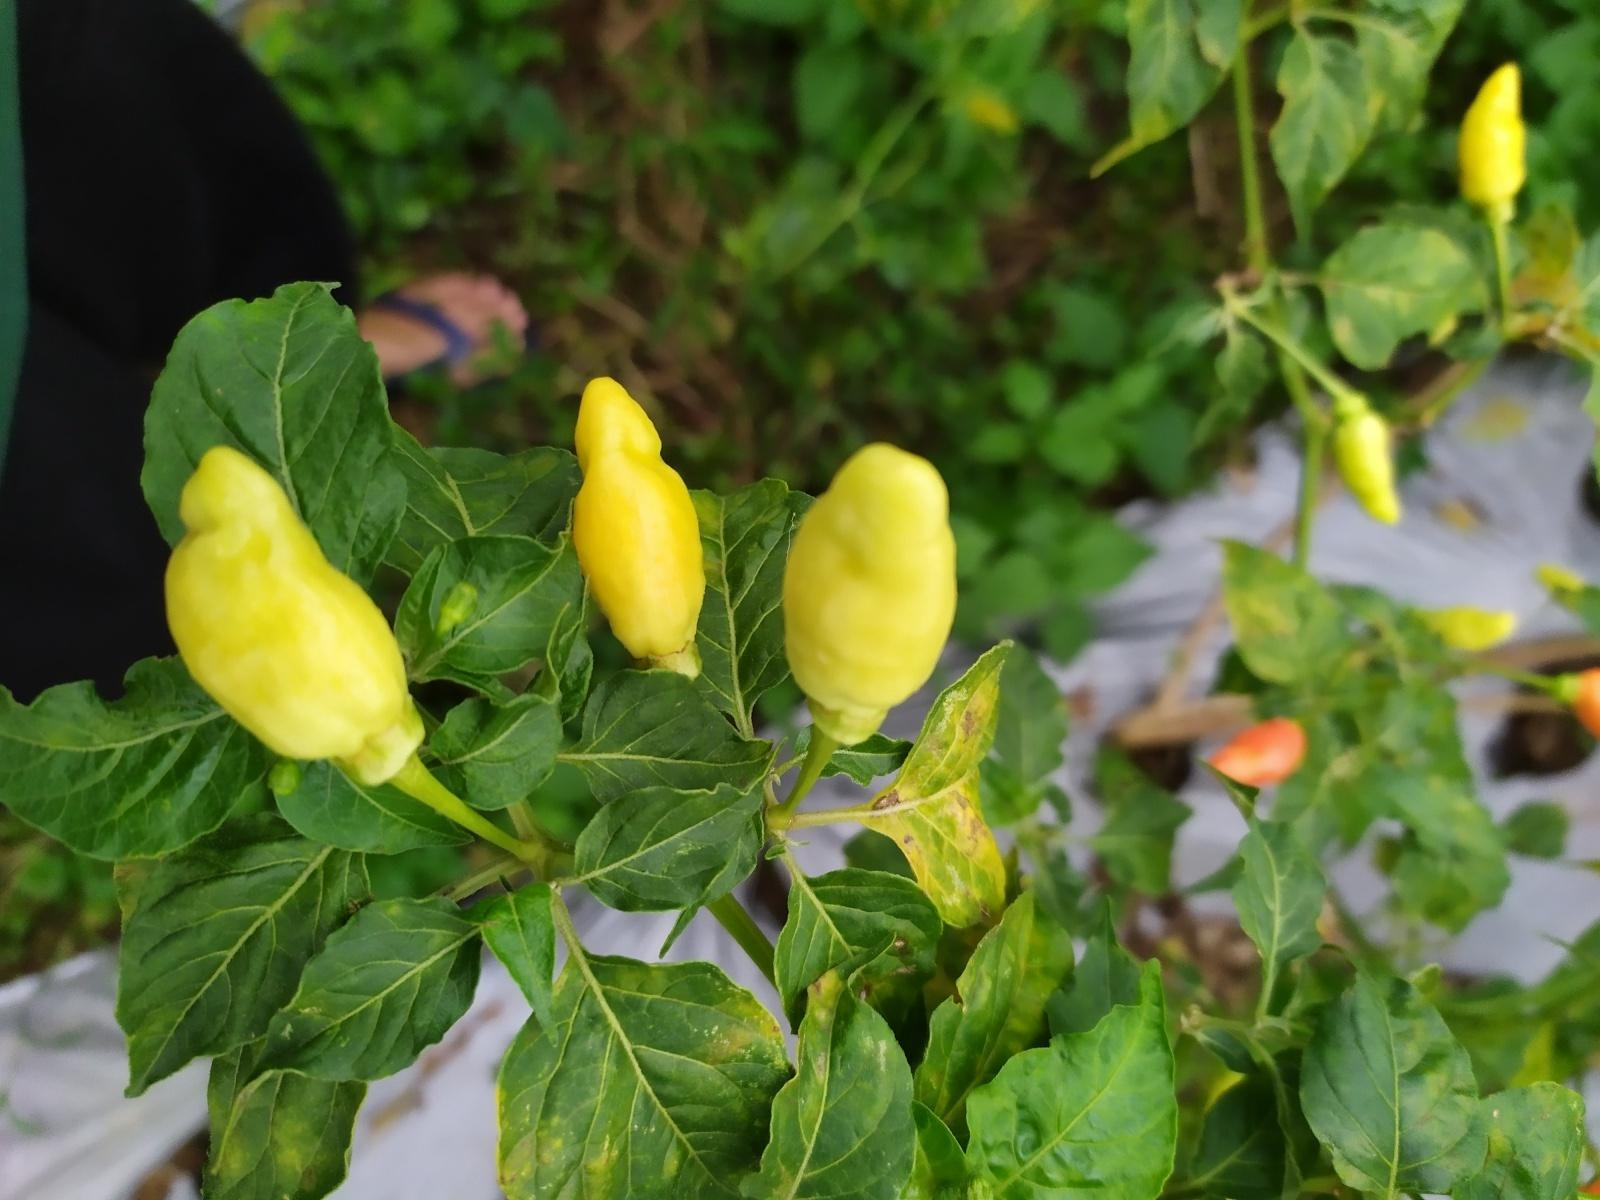cabai_normal: (163, 445, 407, 763), (781, 441, 959, 724), (573, 377, 707, 662), (1455, 62, 1528, 200), (1334, 403, 1401, 523), (1211, 716, 1306, 792)
